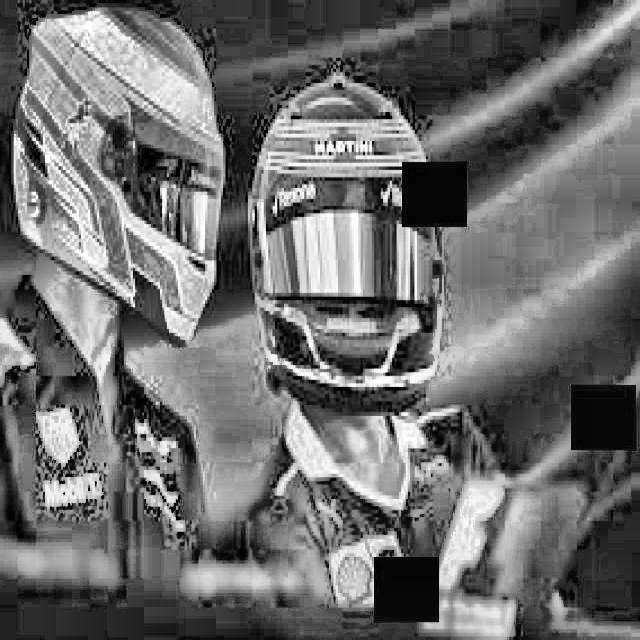Helmet: (0, 0, 230, 348), (238, 62, 453, 413)
